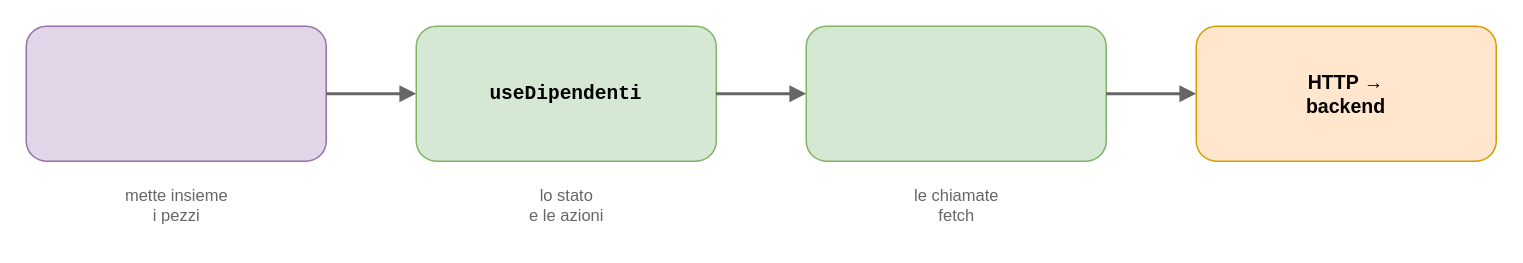
Image size: 1523x263. Some labels were removed from this diagram. The shapes that lost their labels are listed below. From the top down, each one's centre as x and y in pixels, then its label:
At point (175, 93): "DipendentiPage".
At point (955, 93): "dipendenti.api.ts".
